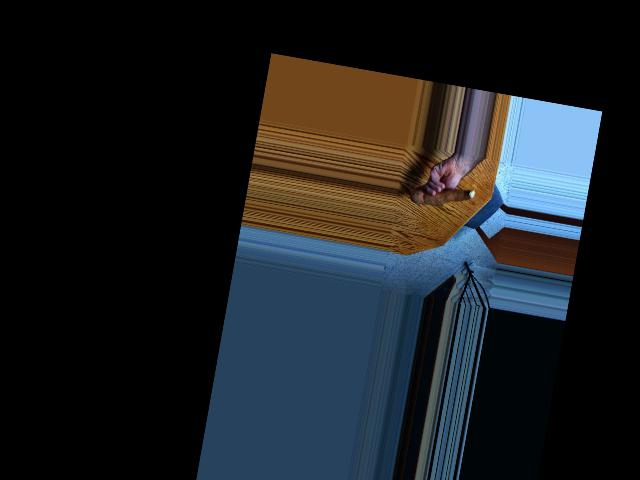sweet_potato: (411, 177, 473, 215)
